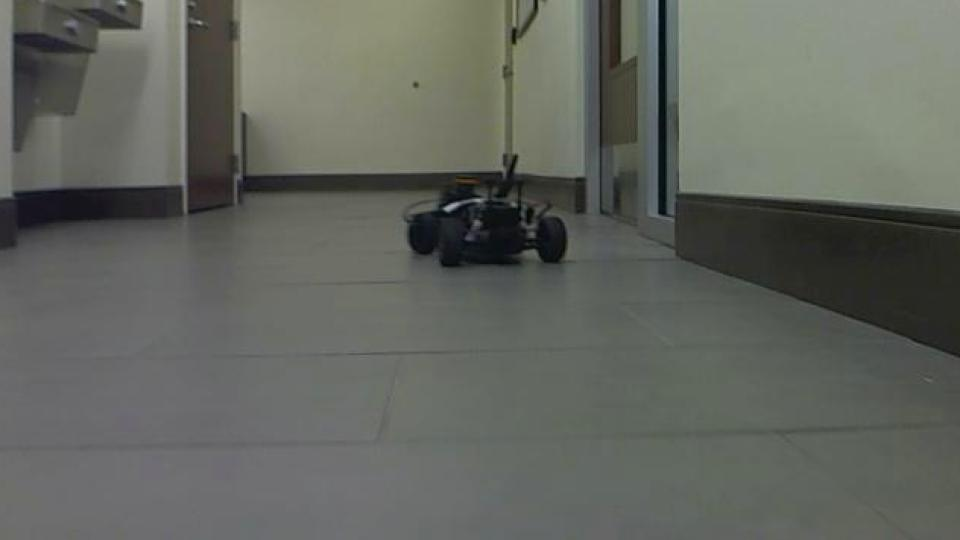car: (401, 153, 573, 270)
